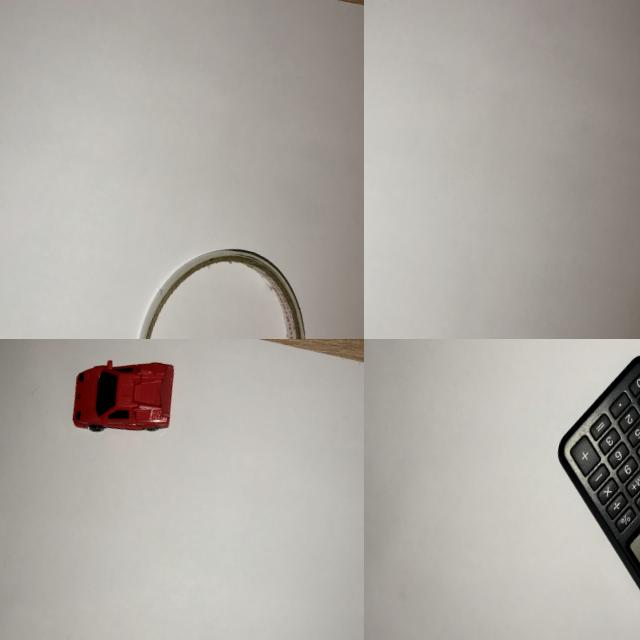calculator: (525, 339, 640, 626)
car: (60, 339, 185, 450)
scotch: (110, 226, 331, 339)
